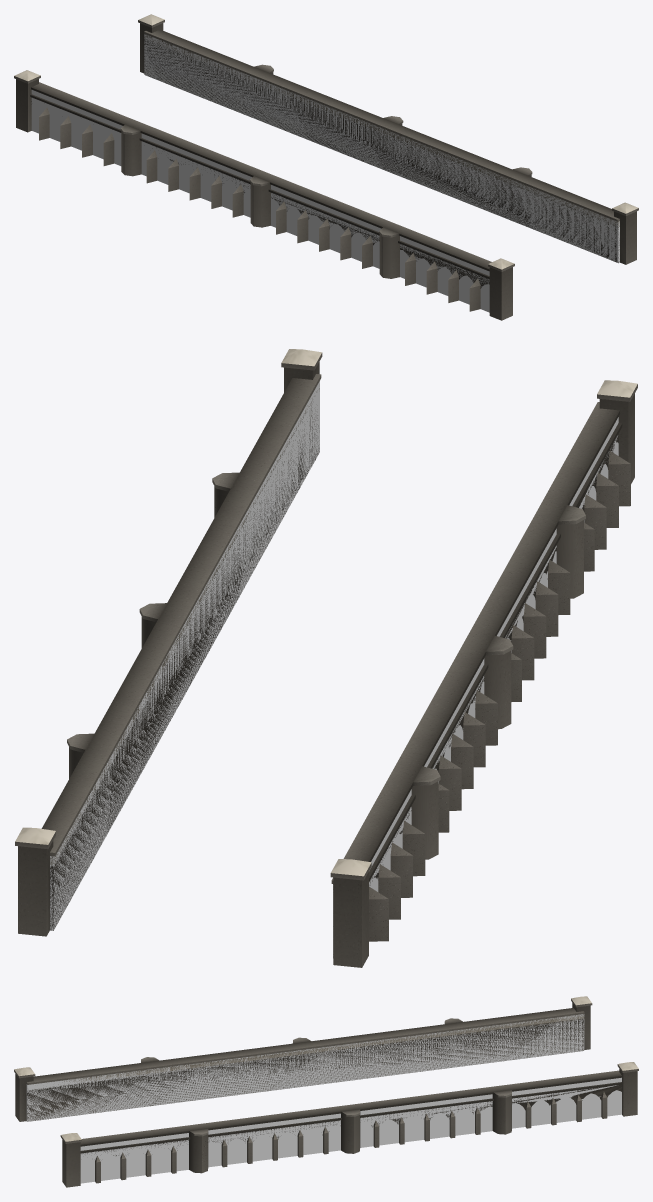
The model's file is puranapul_arches.glb.
The picture shows the model from 3 angles, top to bottom: view 1: azimuth 30°, elevation 25°; view 2: azimuth 150°, elevation 25°; view 3: azimuth 270°, elevation 25°; orthographic projection. The views are drawn at different scales.
Parts seen in each view (by area): view 1: puranapul_arches_body, COL_puranapul_arches; view 2: puranapul_arches_body, COL_puranapul_arches; view 3: puranapul_arches_body, COL_puranapul_arches.
Boxes of the visible parts, x1,y1,x2,y2 form: puranapul_arches_body: (14, 14, 638, 320); COL_puranapul_arches: (31, 34, 619, 312); puranapul_arches_body: (15, 349, 637, 967); COL_puranapul_arches: (50, 381, 618, 958); puranapul_arches_body: (14, 996, 638, 1187); COL_puranapul_arches: (26, 1014, 621, 1183).
Size of the model in its own units: 88.79 by 14.4 by 161.
Materials: 3 (3 with a texture image).
